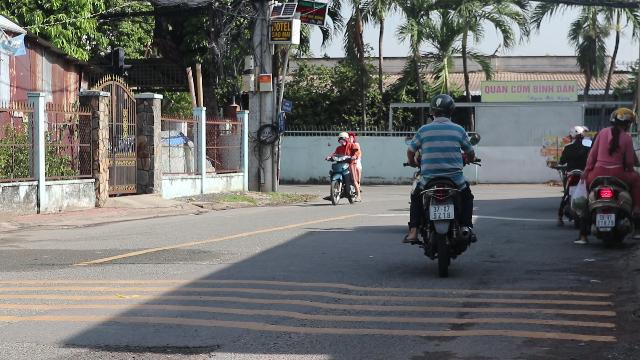helmet: (428, 92, 454, 120), (610, 106, 634, 130)
licenseplate: (429, 205, 453, 219), (597, 214, 615, 226)
motorcyclist: (400, 92, 480, 272), (575, 106, 639, 248)
